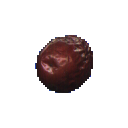gd: (25, 27, 123, 107)
